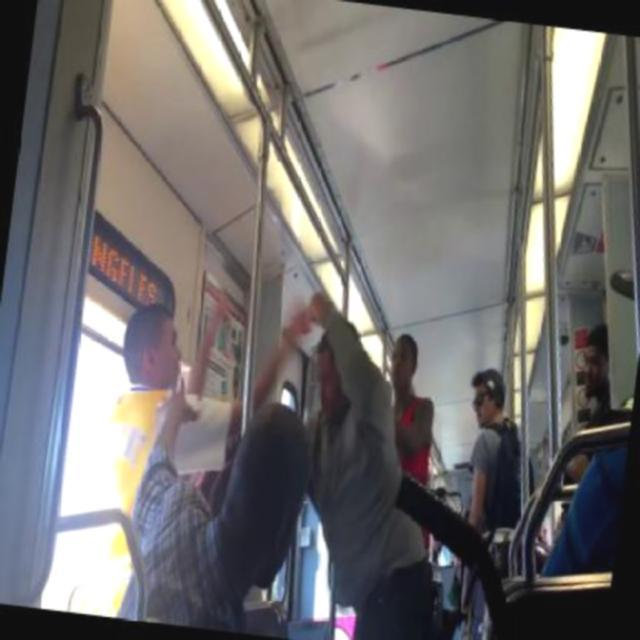fight: (103, 266, 414, 531)
non-fight: (450, 363, 544, 526)
